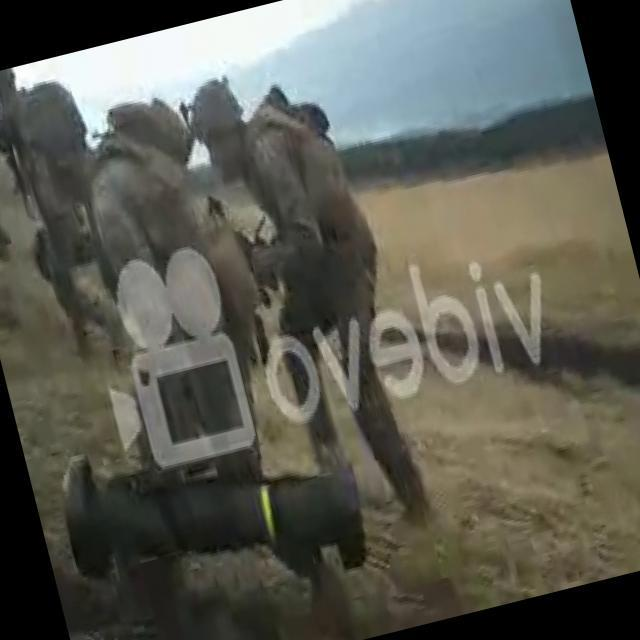rocket: (52, 388, 379, 630)
